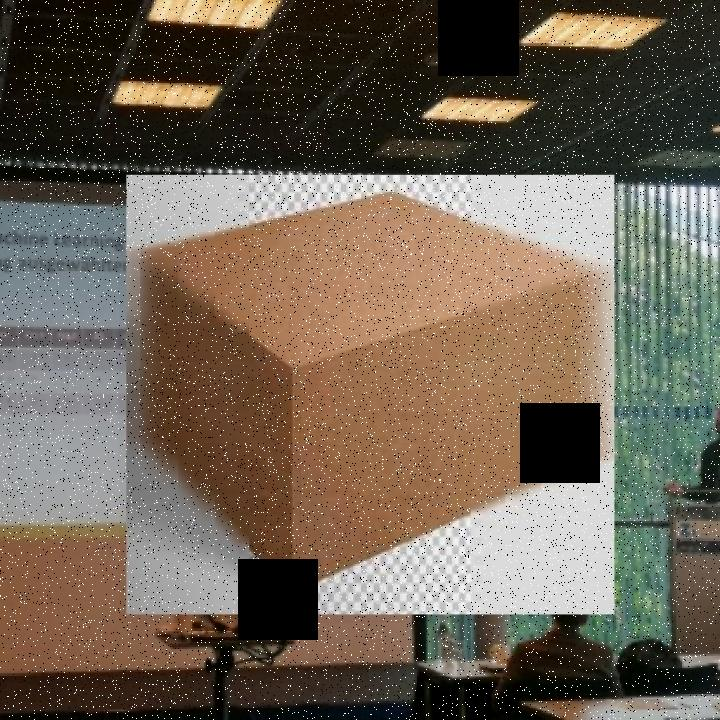box: (119, 168, 623, 623)
